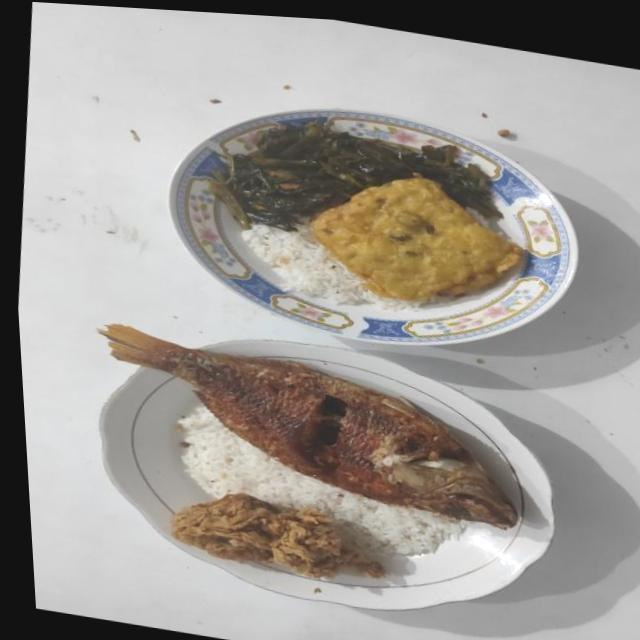ikan_mujair: (100, 324, 516, 528)
nasi_putih: (182, 404, 467, 556), (242, 224, 420, 310)
tumis_kangkung: (209, 120, 500, 230)
